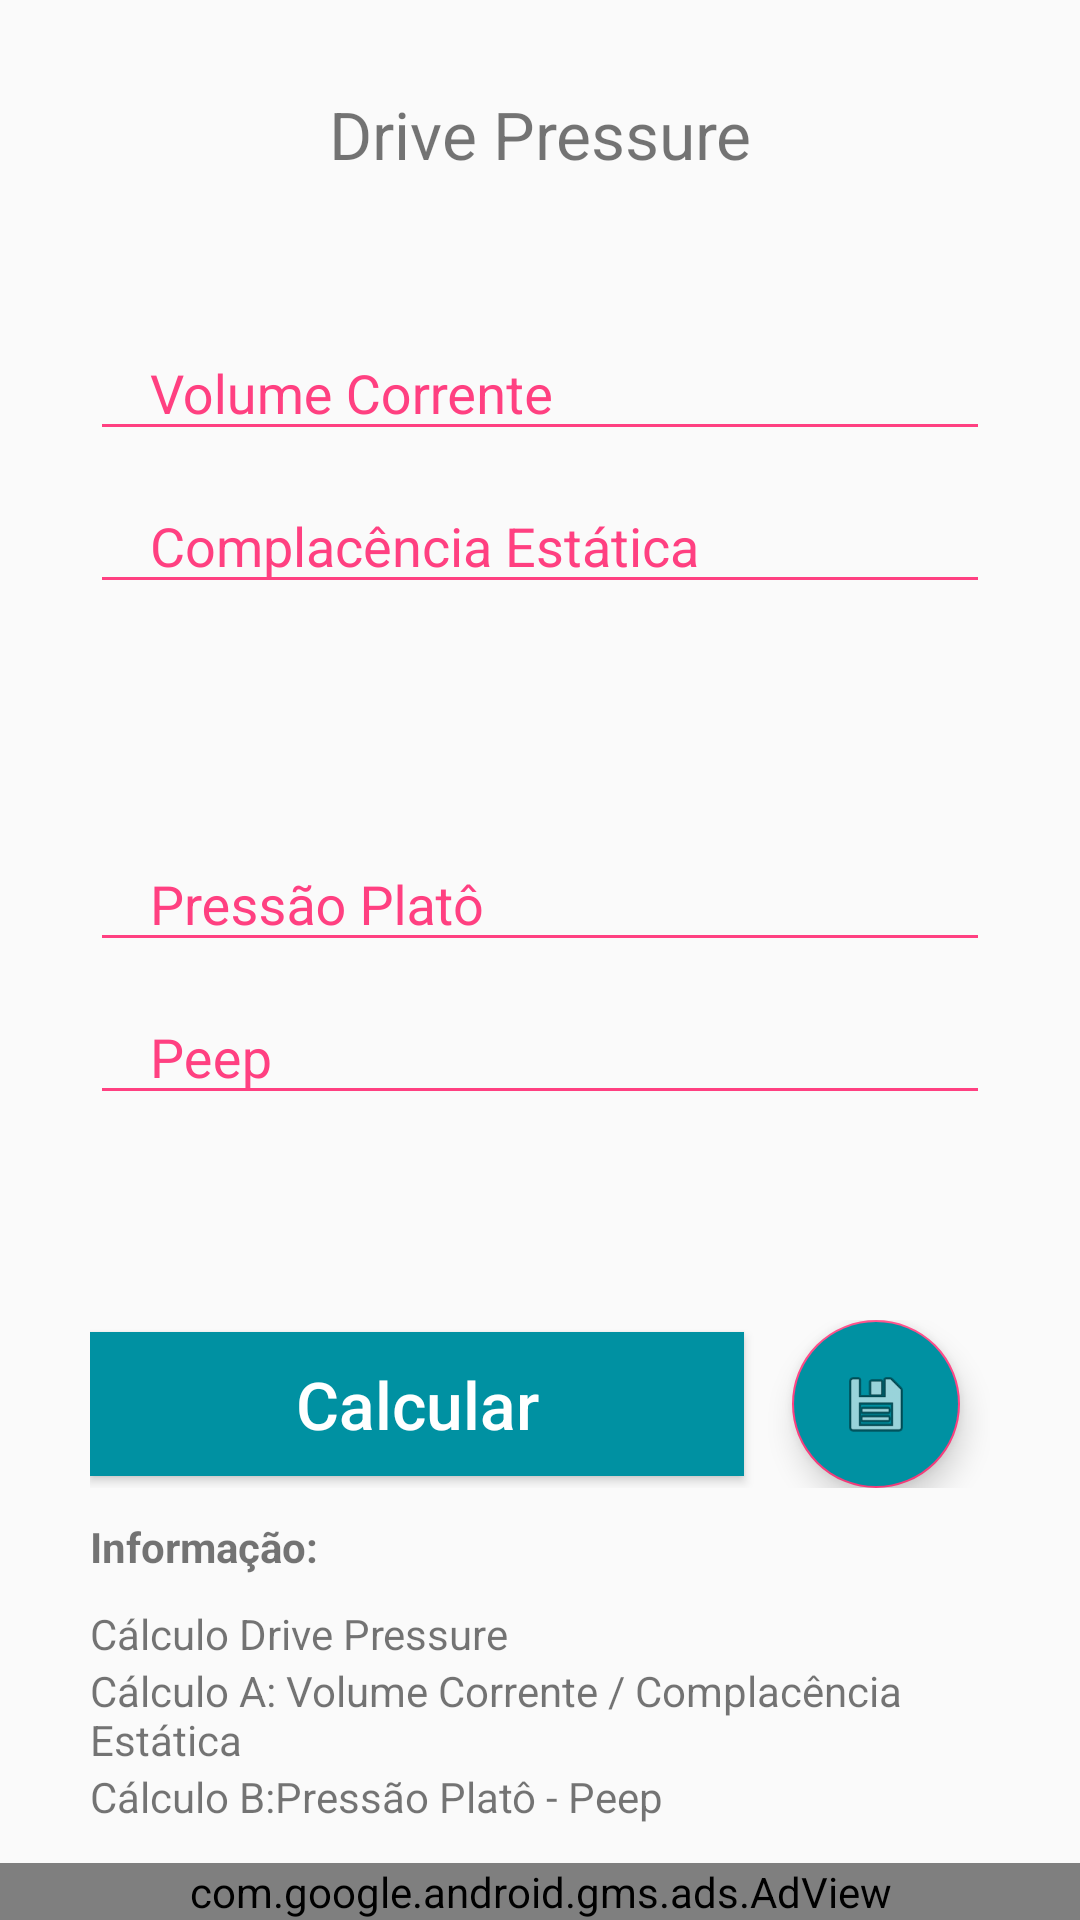

Named icons in this screenshot (1080 × 1920) and their bounding boxes, (x1, y1, x2, y2):
save: (792, 1320, 960, 1488)
